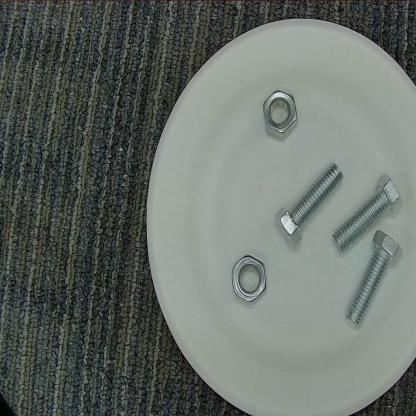FOD: (338, 228, 408, 327), (331, 169, 406, 253), (274, 160, 344, 247), (260, 84, 302, 141), (228, 250, 269, 306)
